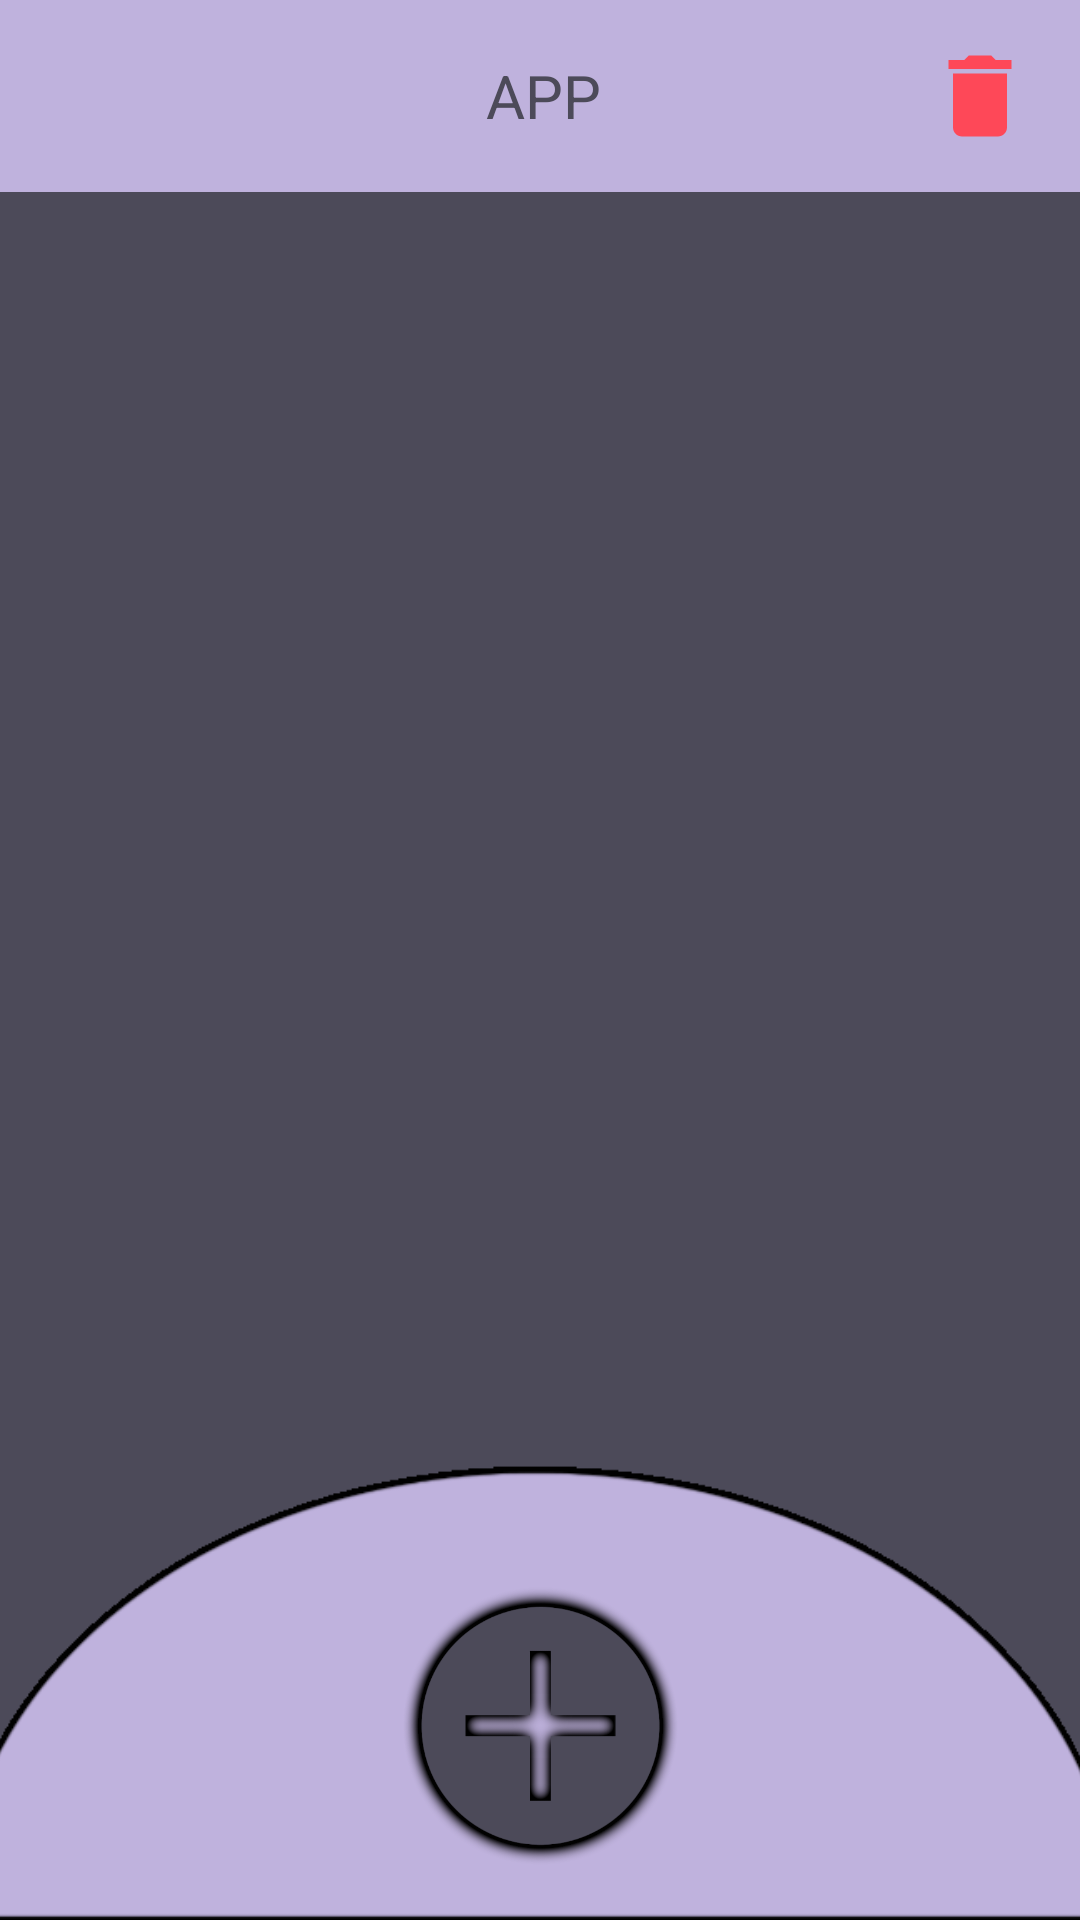

Icon bounding boxes for this 1080w x 1920h phone screenshot, format (x1,y1,x2,y2):
addbuttom: (408,1593,673,1859)
delete: (948,55,1012,137)
